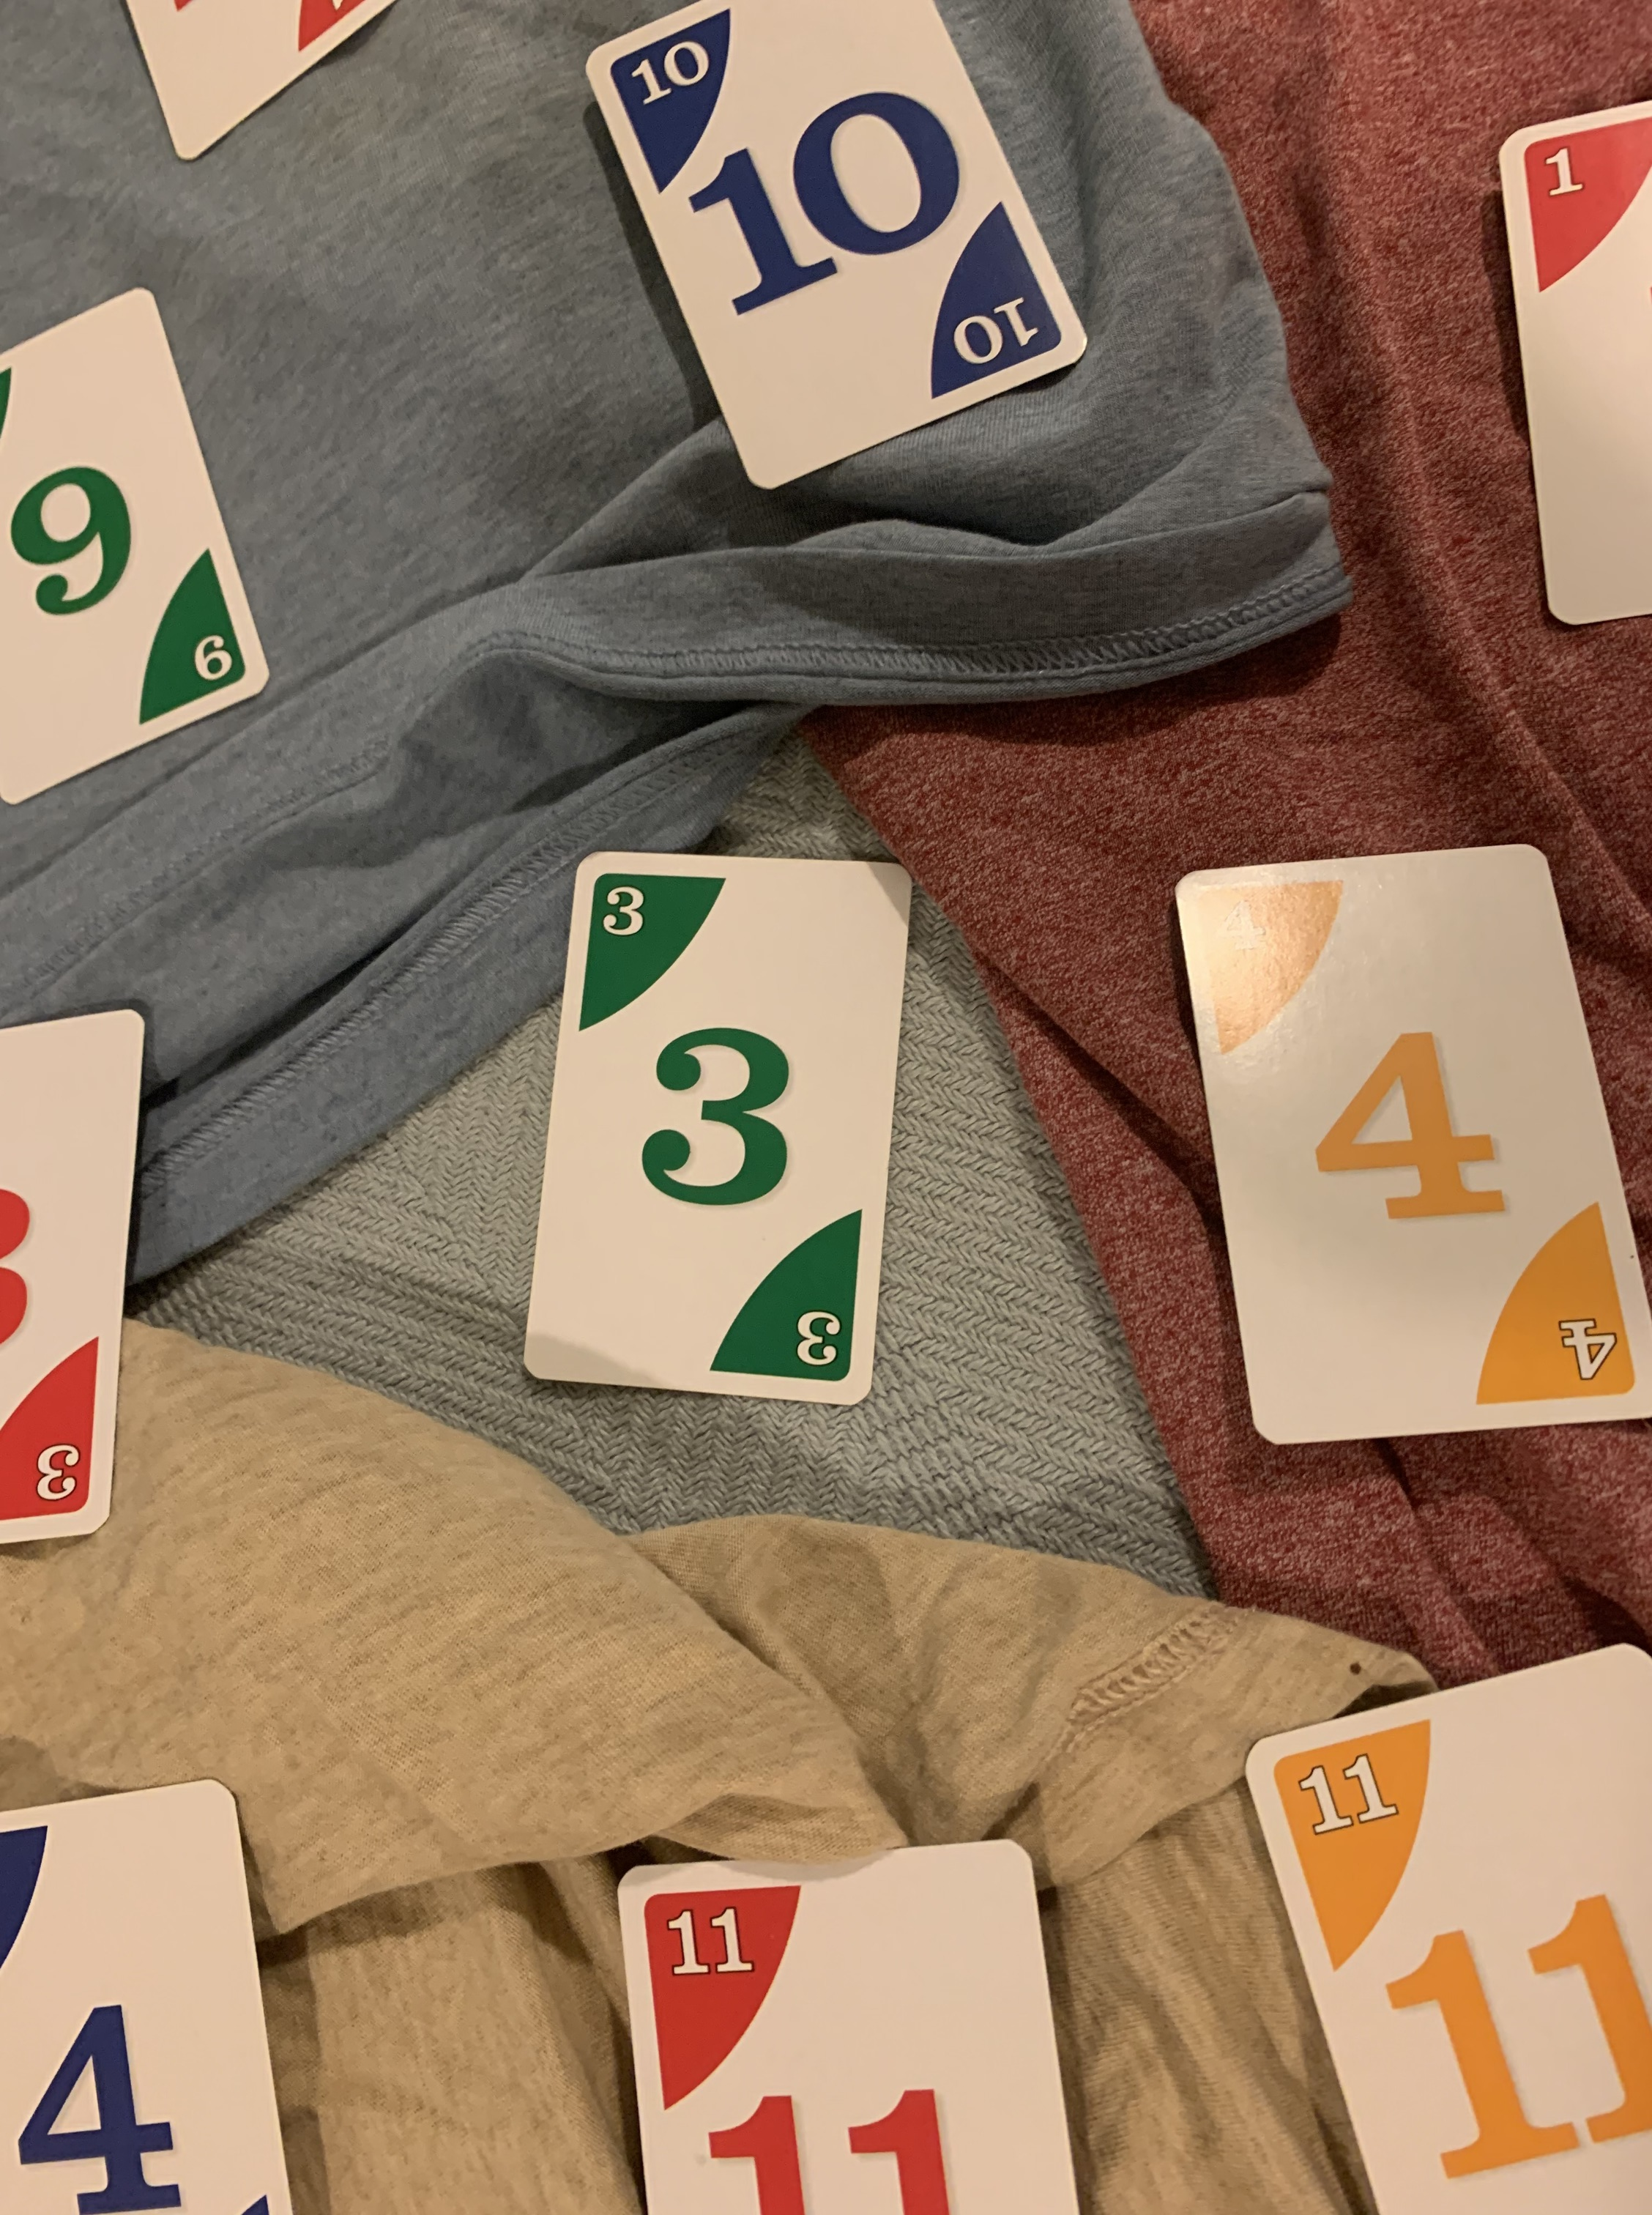eleven: (600, 1835, 1097, 2215)
four: (1159, 838, 1652, 1449)
ten: (587, 0, 1095, 510)
three: (522, 844, 925, 1403)
